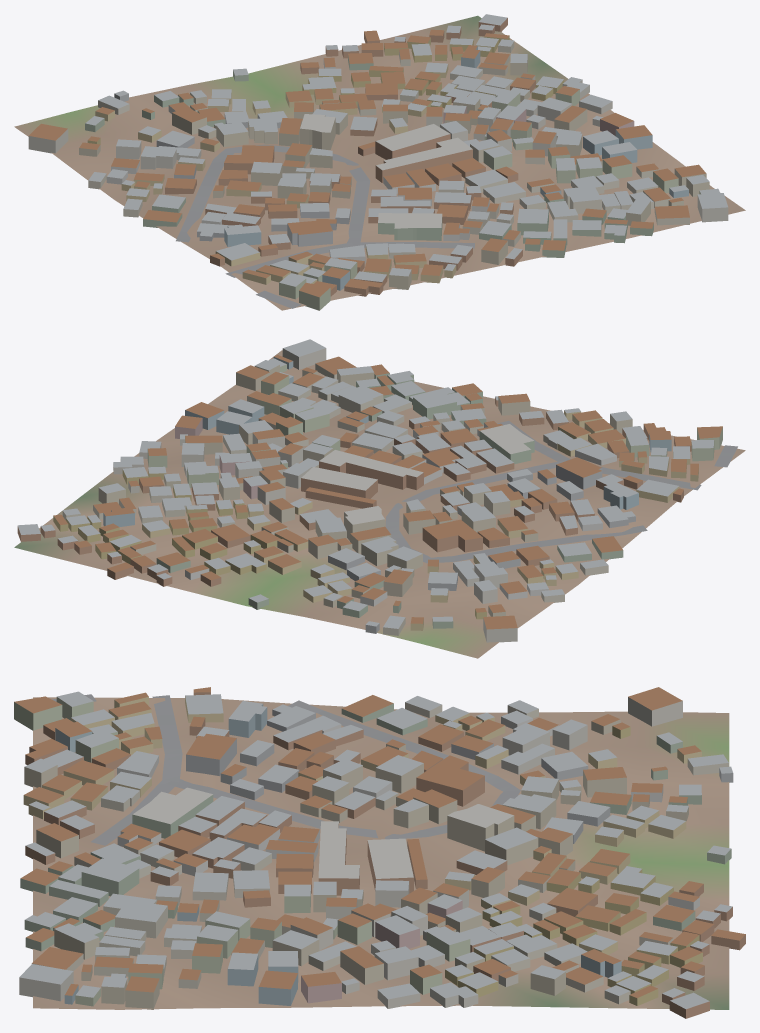
3 renders of one model, top to bottom at view 1: azimuth 30°, elevation 25°; view 2: azimuth 150°, elevation 25°; view 3: azimuth 270°, elevation 25°, orthographic. The views are drawn at different scales.
Visible parts, largest first — view 1: Lo; view 2: Lo; view 3: Lo.
Part boxes in pixels (x1=…): Lo: x1=14, y1=14, x2=745, y2=310; Lo: x1=14, y1=339, x2=745, y2=658; Lo: x1=14, y1=687, x2=745, y2=1018.
Size of the model in its own units: 270 by 14.85 by 269.
